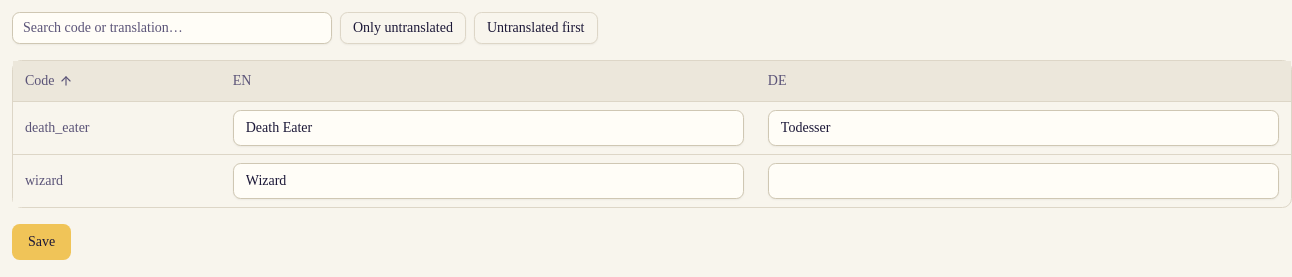
SubTypeTranslationsForm › "only untranslated" hides fully-translated rows
Click the button "Only untranslated": {"x": 403, "y": 28} 340,12 -> 466,44
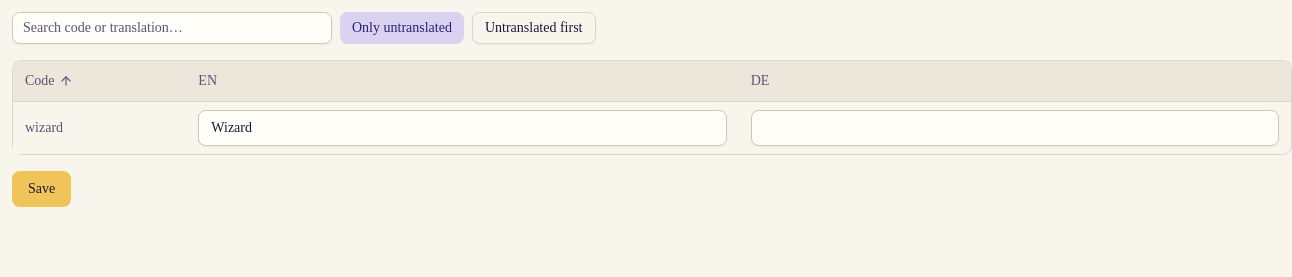
Expected: the text "wizard" is shown, 13,101 -> 186,154
Expected: the text "death_eater" is gone
